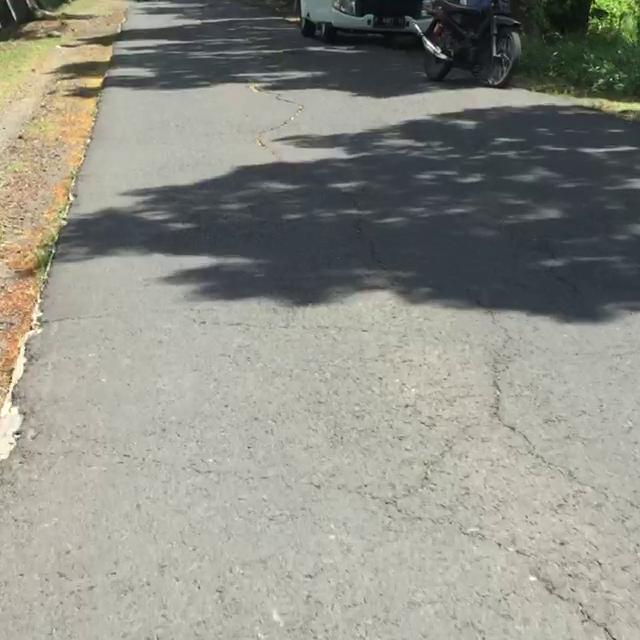retak_memanjang: (370, 510, 640, 640), (423, 284, 521, 459), (250, 74, 310, 173)
